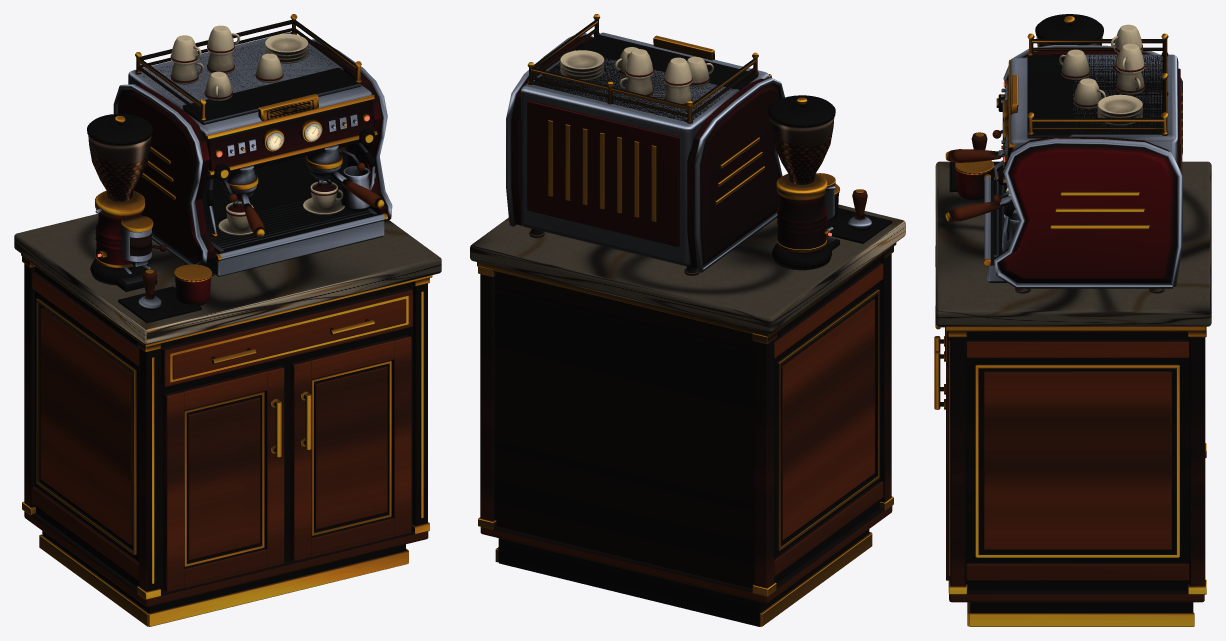
Rendered from prop_coffee_machine.glb.
3 views of the same model, side by side, from view 1: azimuth 30°, elevation 25°; view 2: azimuth 150°, elevation 25°; view 3: azimuth 270°, elevation 25° (orthographic). The views are drawn at different scales.
Parts seen in each view (by area): view 1: CoffeeMachineBarista_90s; view 2: CoffeeMachineBarista_90s; view 3: CoffeeMachineBarista_90s.
Boxes of the visible parts, bbox=[...] form: CoffeeMachineBarista_90s: bbox=[14, 14, 441, 626]; CoffeeMachineBarista_90s: bbox=[470, 14, 905, 626]; CoffeeMachineBarista_90s: bbox=[934, 14, 1211, 626].
Size of the model in its own units: 0.88 by 1.43 by 0.6835.
16 materials, 16 textured.
